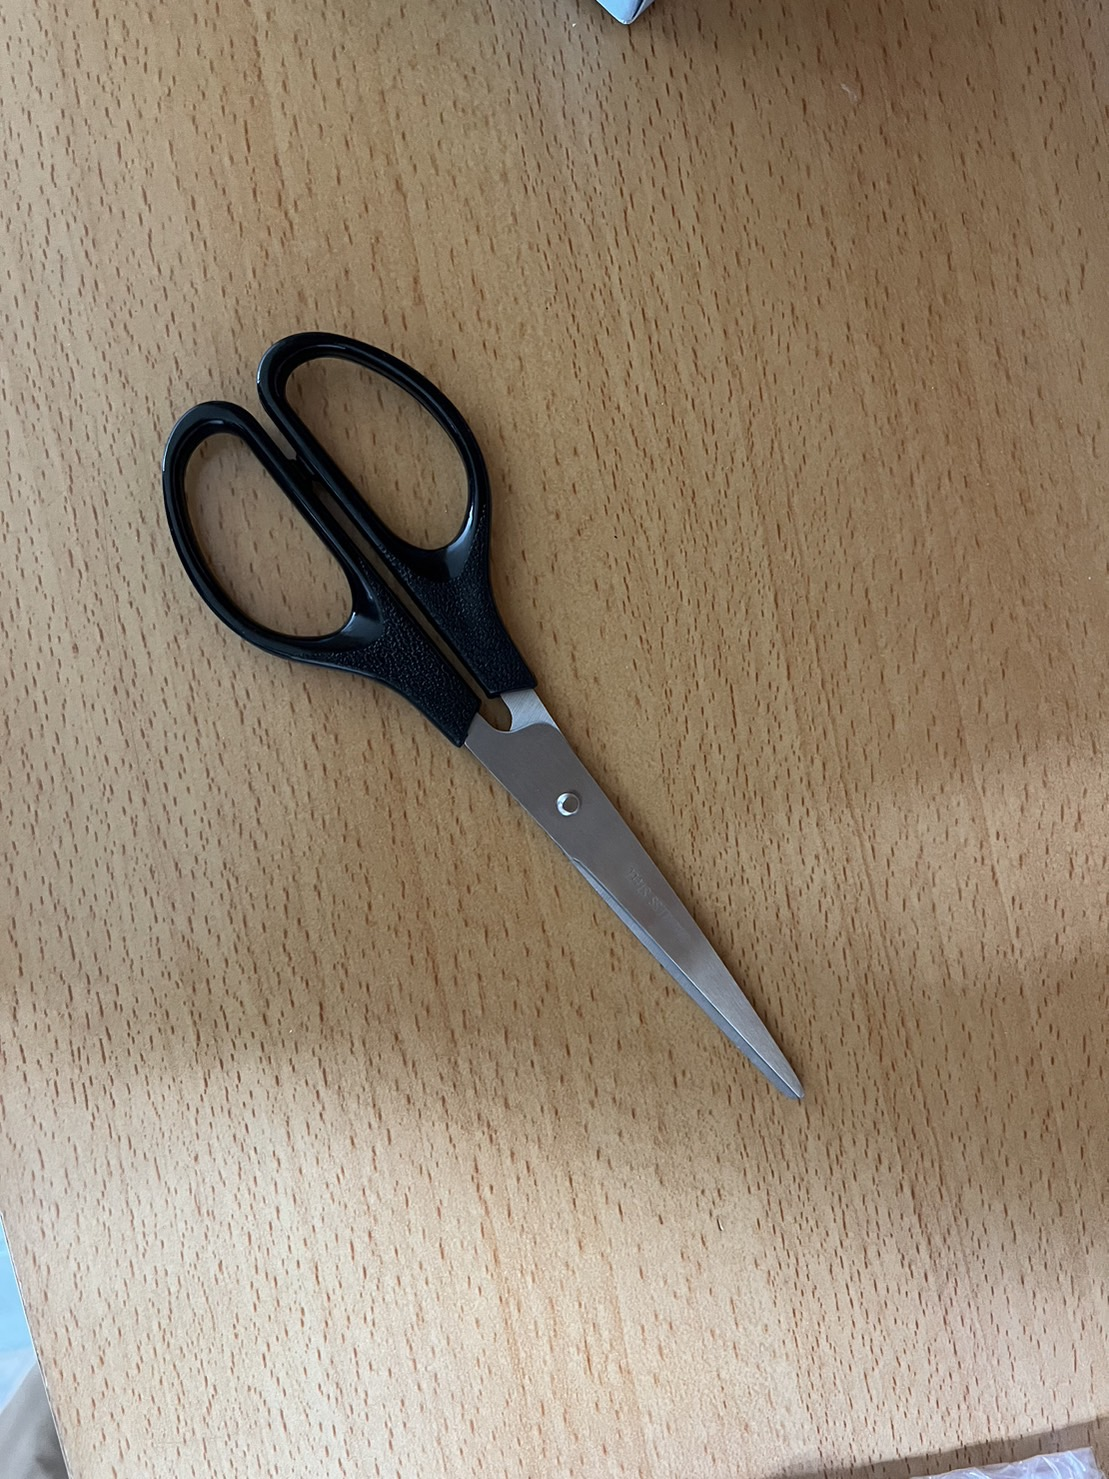scissor: (139, 305, 841, 1127)
